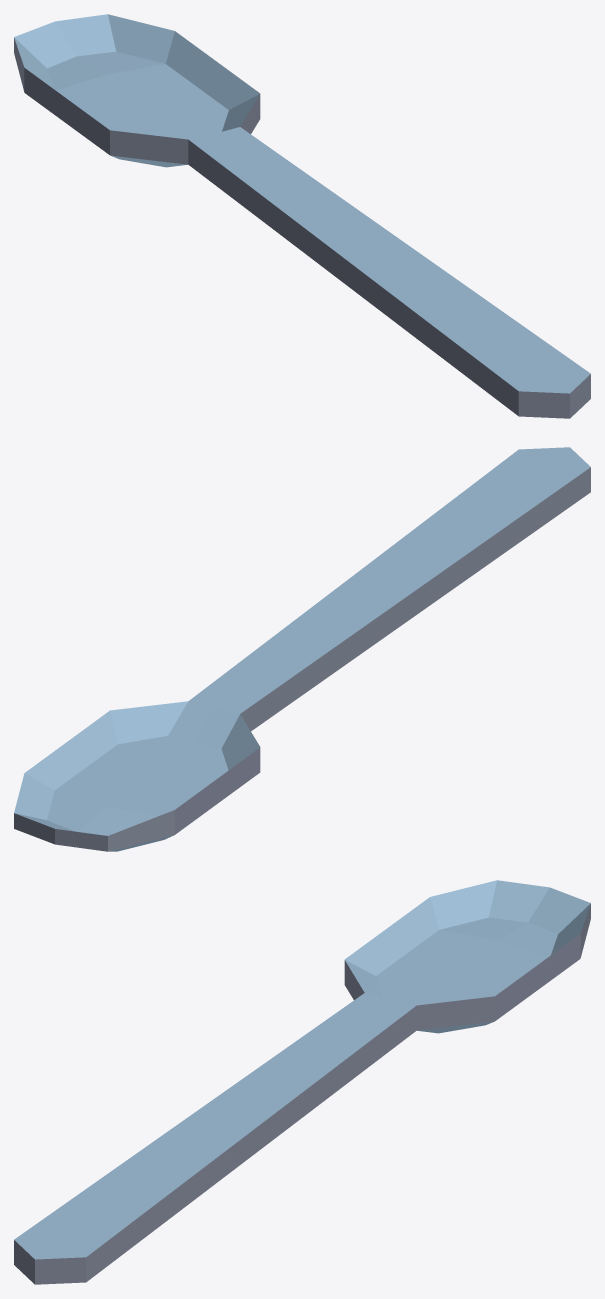
Rendered from Spoon.fbx.
3 views of the same model, one above another, from view 1: azimuth 30°, elevation 25°; view 2: azimuth 150°, elevation 25°; view 3: azimuth 330°, elevation 25° (orthographic).
Visible parts, largest first — view 1: Spoon; view 2: Spoon; view 3: Spoon.
Part boxes in pixels (box(x1,y1,x2,y2)): Spoon: box(14, 14, 590, 418); Spoon: box(14, 447, 590, 851); Spoon: box(14, 880, 590, 1284).
Size of the model in its own units: 9.46 by 2.7 by 56.05.
